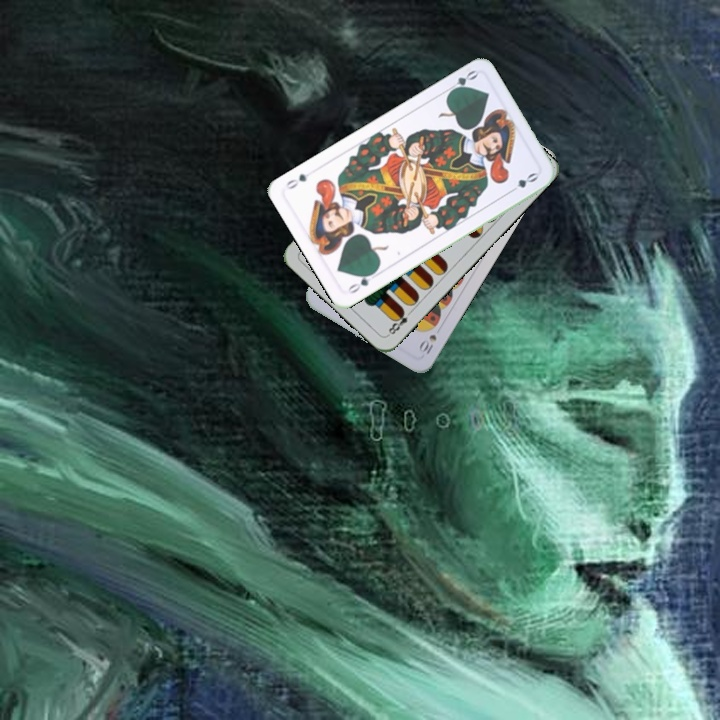E8: (384, 306, 416, 338)
GO: (442, 66, 480, 97), (344, 267, 378, 296)
S10: (415, 330, 439, 358)
